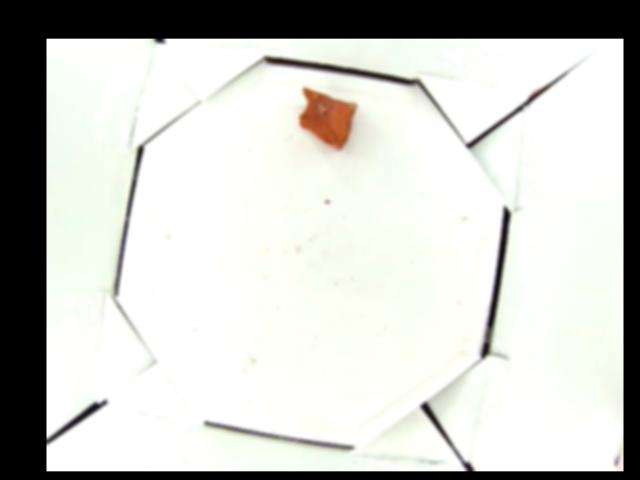Brisk: (298, 87, 357, 148)
